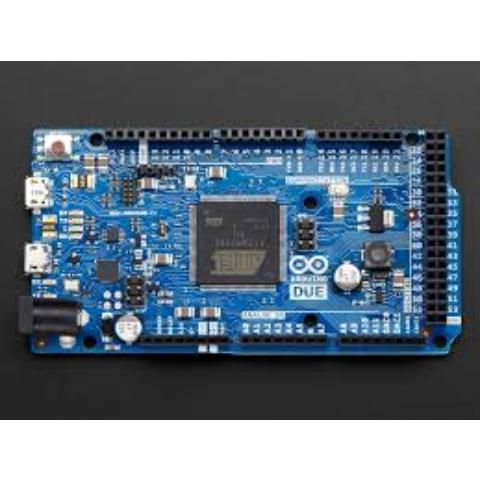Arduino-Due: (15, 108, 473, 381)
